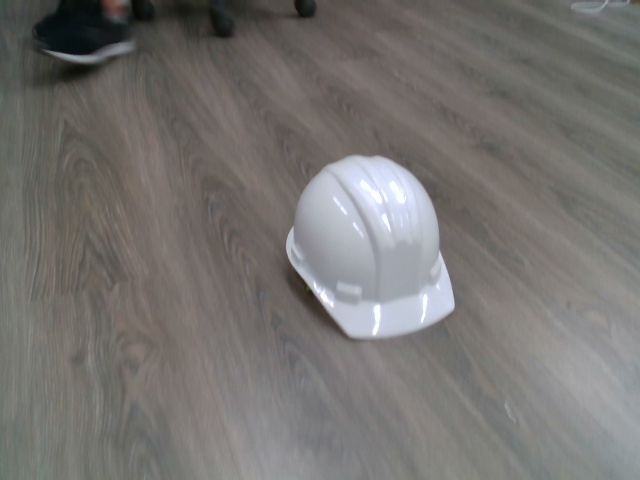helmet: (280, 150, 463, 346)
